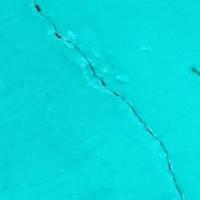crack: (38, 3, 182, 179)
